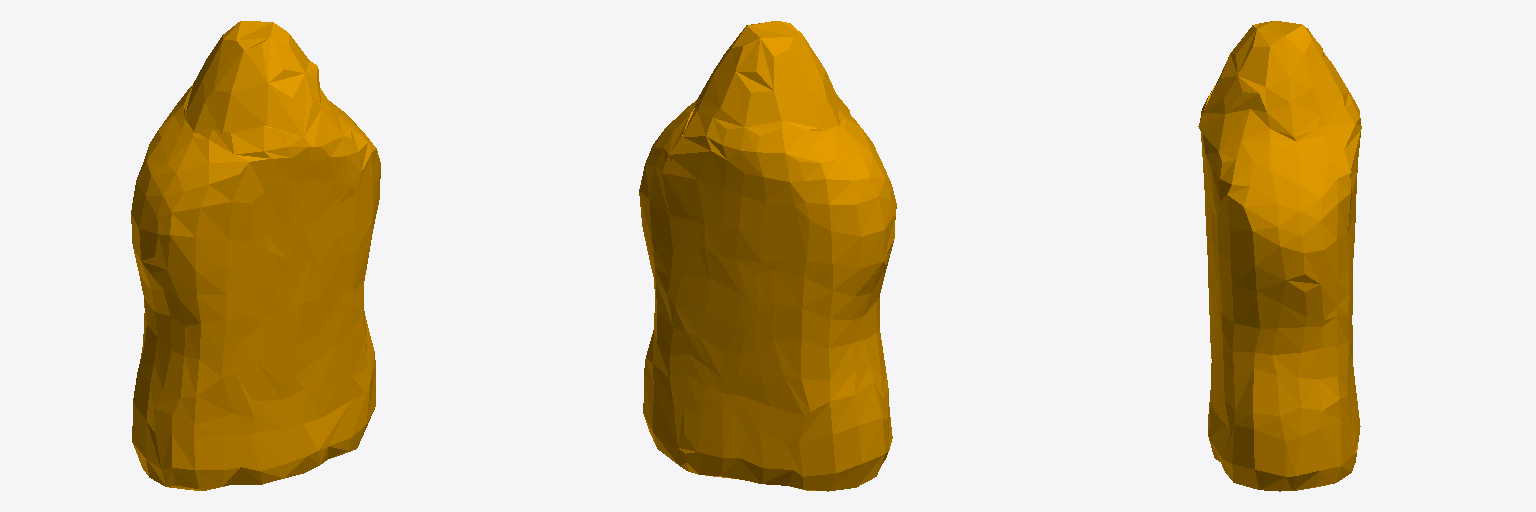
robot.urdf — mustard:
<?xml version="2.0" ?>
<robot name="mustard" xmlns:xacro="http://www.ros.org/wiki/xacro">
    <link name="mustard">
        <contact>
            <restitution value="0.5" />
            <rolling_friction value="0.01"/>
            <spinning_friction value="0.01"/>
        </contact>
        <inertial>
            <origin rpy="0 0 0.0" xyz="0 0 0"/>
            <mass value="2.0"/>
        <inertia ixx="0.0053" ixy="9e-05" ixz="0.00014" iyy="0.00534" iyz="0.0003" izz="0.00155"/>
        </inertial>
        <visual>
            <origin rpy="0 0 0.0" xyz="0 0 0"/>
            <geometry>
                <mesh filename="package://kuka_gripper_description/meshes/mustard.obj"/>
            </geometry>
            <material name="mustard">
                <texture filename="package://kuka_gripper_description/meshes/mustard.png"/>
            </material> 
        </visual>
        <collision>
            <origin rpy="0 0 0.0" xyz="0 0 0"/>
            <geometry>
                <mesh filename="package://kuka_gripper_description/meshes/mustard.obj"/>
            </geometry>
        </collision>
    </link>
</robot>

--- What the picture shows (computed from the rendered views, not written in the file) ---
The picture shows the robot from 3 angles, left to right: view 1: azimuth 30°, elevation 25°; view 2: azimuth 150°, elevation 25°; view 3: azimuth 270°, elevation 25°; orthographic projection.
Robot: mustard — 1 links, 0 joints (none); root link mustard; default pose: all joints at 0.
Visible links, largest first — view 1: mustard; view 2: mustard; view 3: mustard.
Boxes of the visible links, x1,y1,x2,y2 form: mustard: [131, 21, 380, 490]; mustard: [639, 21, 896, 491]; mustard: [1198, 21, 1361, 491].
Bounding box of the posed robot: 0.1039 × 0.0632 × 0.1844 m (x, y, z).
1 mesh visuals loaded from 1 distinct referenced files (1 OBJ).